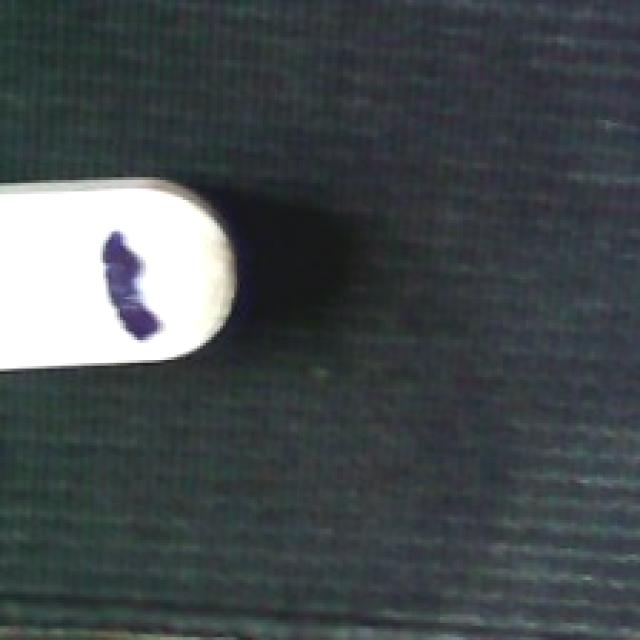defected: (3, 174, 246, 374)
